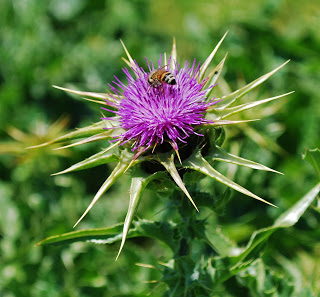thistle: (67, 39, 278, 216)
